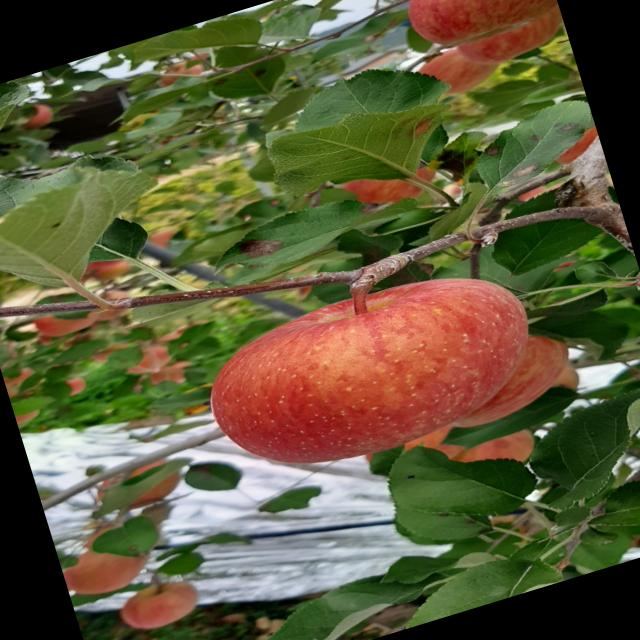fresh: (185, 241, 566, 501)
